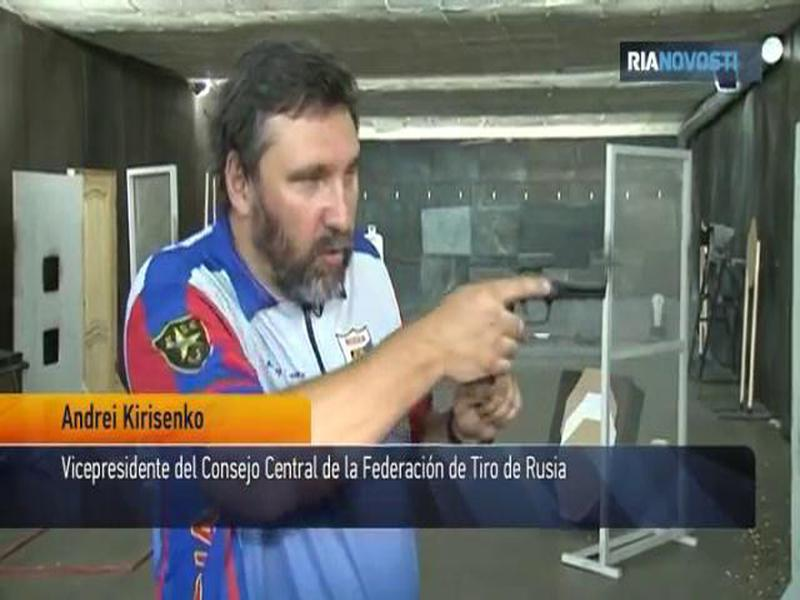Pistola: (436, 253, 618, 394)
